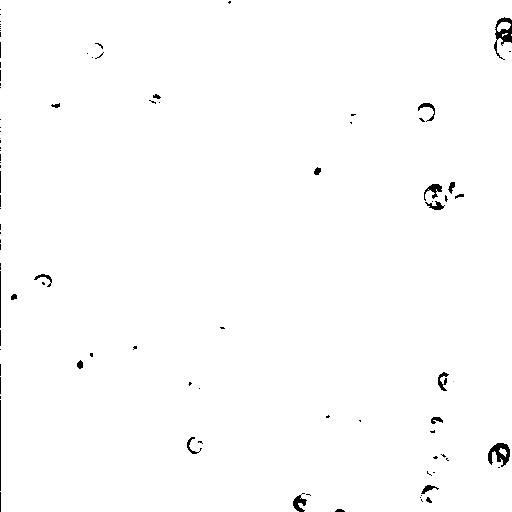micro-algae: (50, 429, 120, 499), (181, 255, 221, 299), (372, 13, 413, 55), (338, 407, 377, 441), (439, 165, 473, 199), (119, 336, 151, 366), (181, 367, 211, 399), (65, 350, 92, 383), (41, 85, 70, 115), (303, 155, 332, 185), (423, 451, 454, 479), (421, 182, 449, 211), (485, 440, 512, 470), (178, 311, 209, 337), (299, 91, 327, 117), (418, 483, 444, 509), (3, 34, 30, 59), (342, 104, 367, 130), (3, 286, 27, 312), (290, 490, 317, 511), (416, 101, 437, 124), (495, 33, 512, 61), (218, 0, 245, 17), (31, 273, 53, 292), (85, 41, 106, 59), (437, 372, 455, 393), (187, 437, 205, 455), (426, 416, 444, 434), (496, 15, 512, 35), (453, 193, 468, 212), (333, 507, 347, 512)
